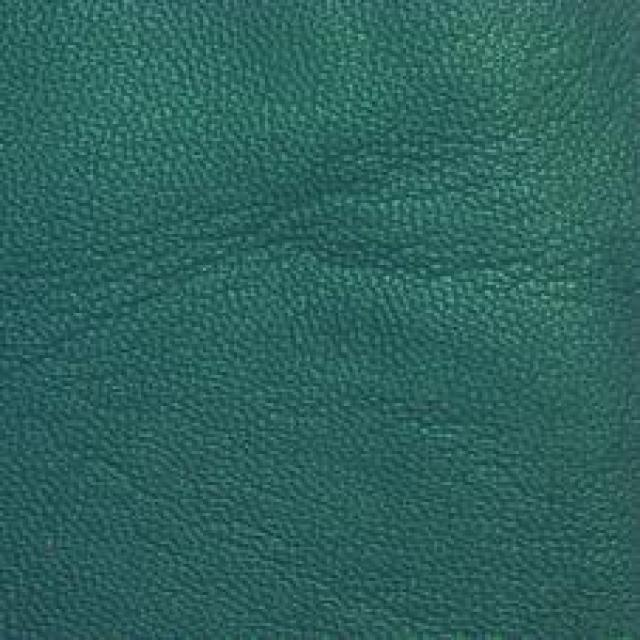Growth Marks: (287, 205, 604, 334), (32, 214, 265, 350)
